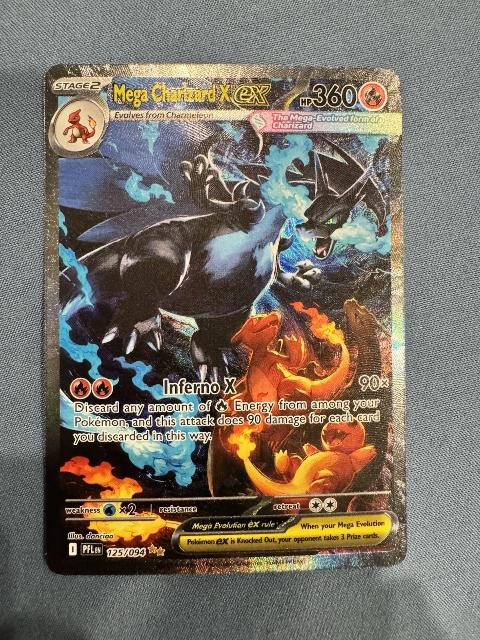Card: (38, 58, 415, 585)
Name: (109, 81, 276, 111)
